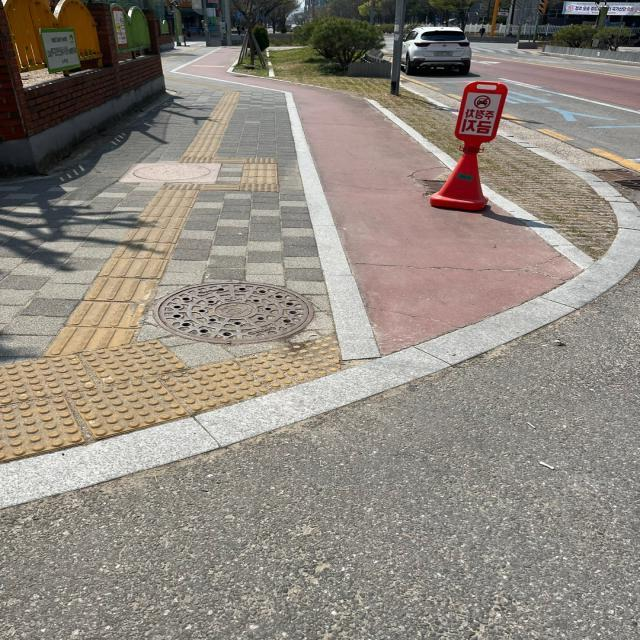Sewer Cover: (139, 265, 332, 352), (112, 151, 236, 203)
